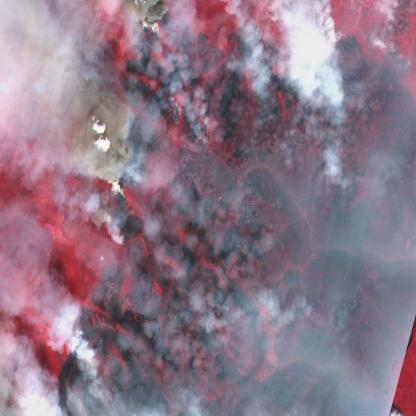fire: (91, 2, 181, 254)
